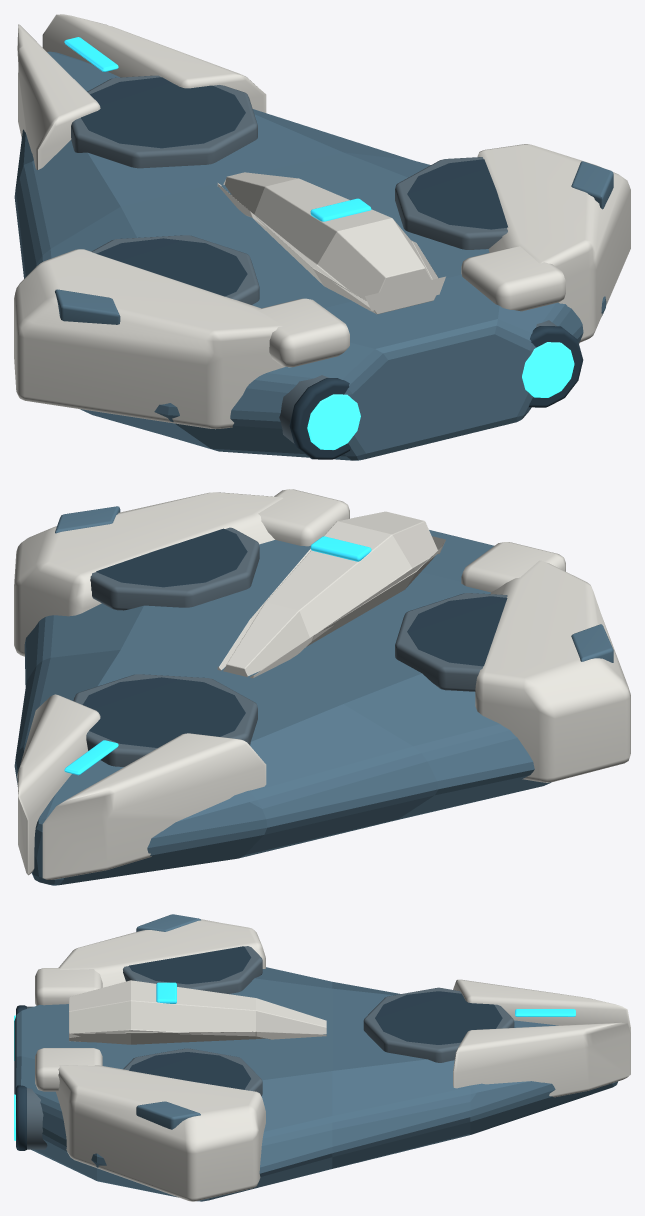
File: frigate.glb
3 renders of one model, top to bottom at view 1: azimuth 30°, elevation 25°; view 2: azimuth 150°, elevation 25°; view 3: azimuth 270°, elevation 25°, orthographic. The views are drawn at different scales.
Parts seen in each view (by area): view 1: HullArmor, Engine01Mesh, Engine02Mesh; view 2: HullArmor; view 3: HullArmor, Engine02Mesh.
Boxes of the visible parts, <box> form: HullArmor: <box>14,14,630,460</box>; Engine01Mesh: <box>279,375,360,459</box>; Engine02Mesh: <box>522,320,583,407</box>; HullArmor: <box>14,489,630,885</box>; HullArmor: <box>14,914,630,1201</box>; Engine02Mesh: <box>14,1085,47,1150</box>.
Bounding box in the file's own units: 4.92 × 1.32 × 5.67.
